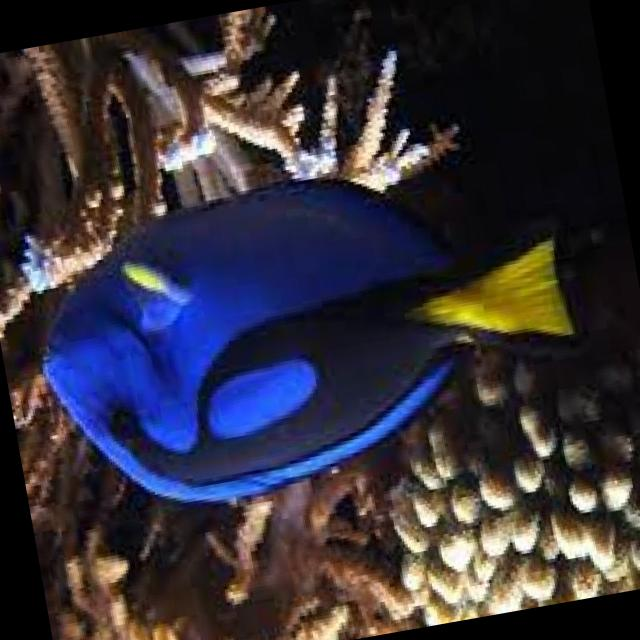BlueTang: (15, 148, 588, 522)
